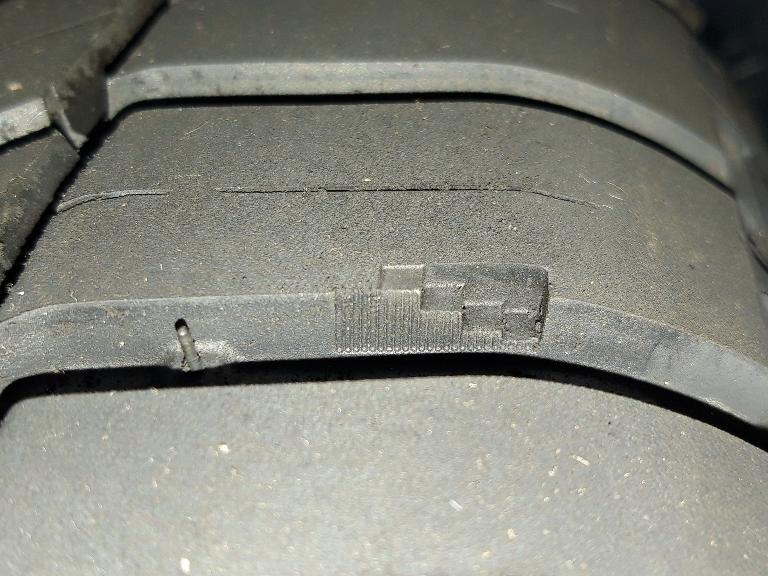temoin:75: (372, 253, 560, 365)
